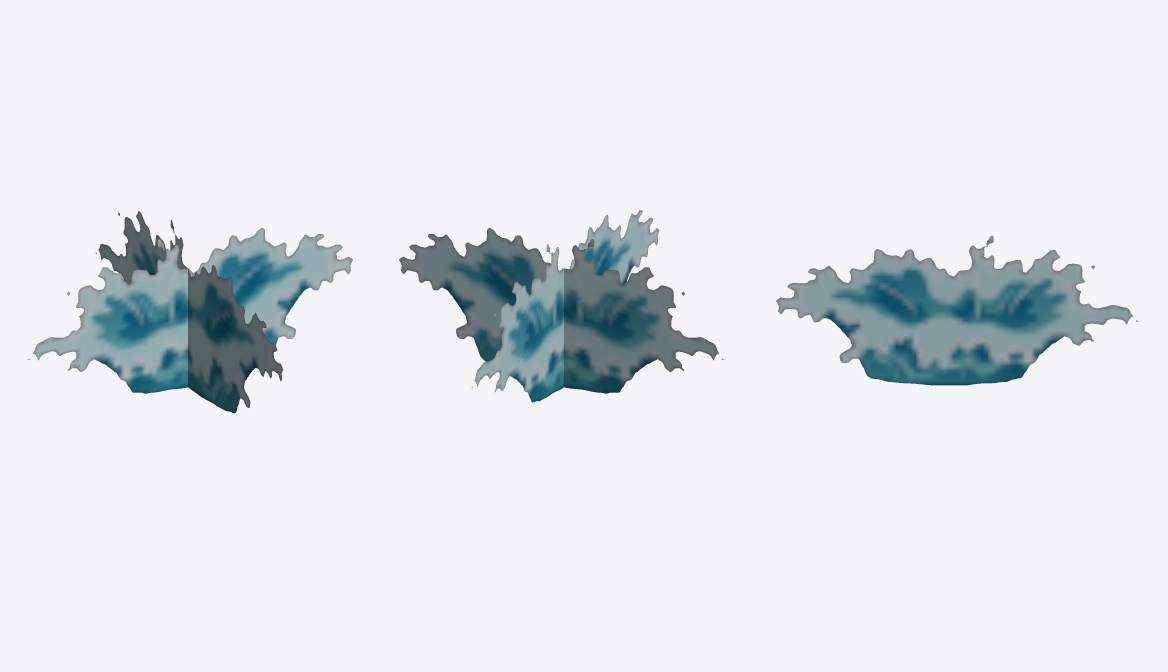
Rendered from splash.glb.
3 views of the same model, side by side, from view 1: azimuth 30°, elevation 25°; view 2: azimuth 150°, elevation 25°; view 3: azimuth 270°, elevation 25° (orthographic). The views are drawn at different scales.
Parts seen in each view (by area): view 1: Plane, Plane.001; view 2: Plane, Plane.001; view 3: Plane.001.
Part boxes in pixels (<box>): Plane: <box>27,228,352,393</box>; Plane.001: <box>96,211,283,413</box>; Plane: <box>399,228,724,393</box>; Plane.001: <box>472,210,659,402</box>; Plane.001: <box>776,235,1138,385</box>.
Size of the model in its own units: 1.46 by 2 by 1.46.
Materials: 2 (2 with a texture image).
